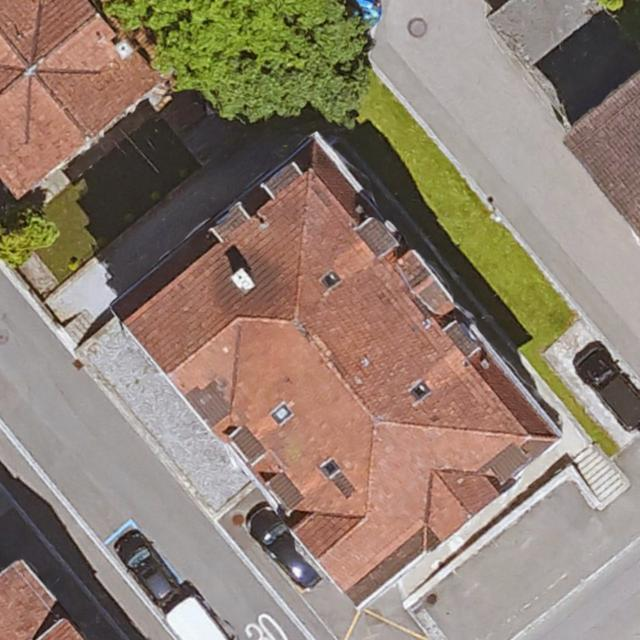tree: (114, 0, 367, 121), (0, 208, 58, 269)
